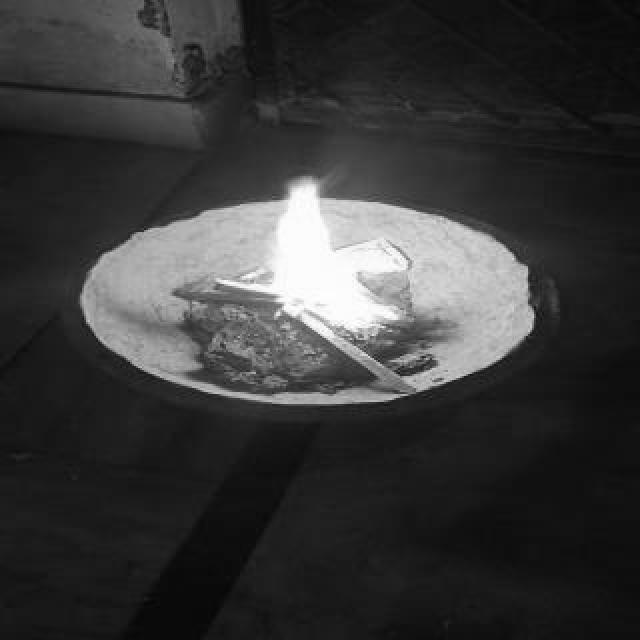Fire: (260, 176, 440, 320)
